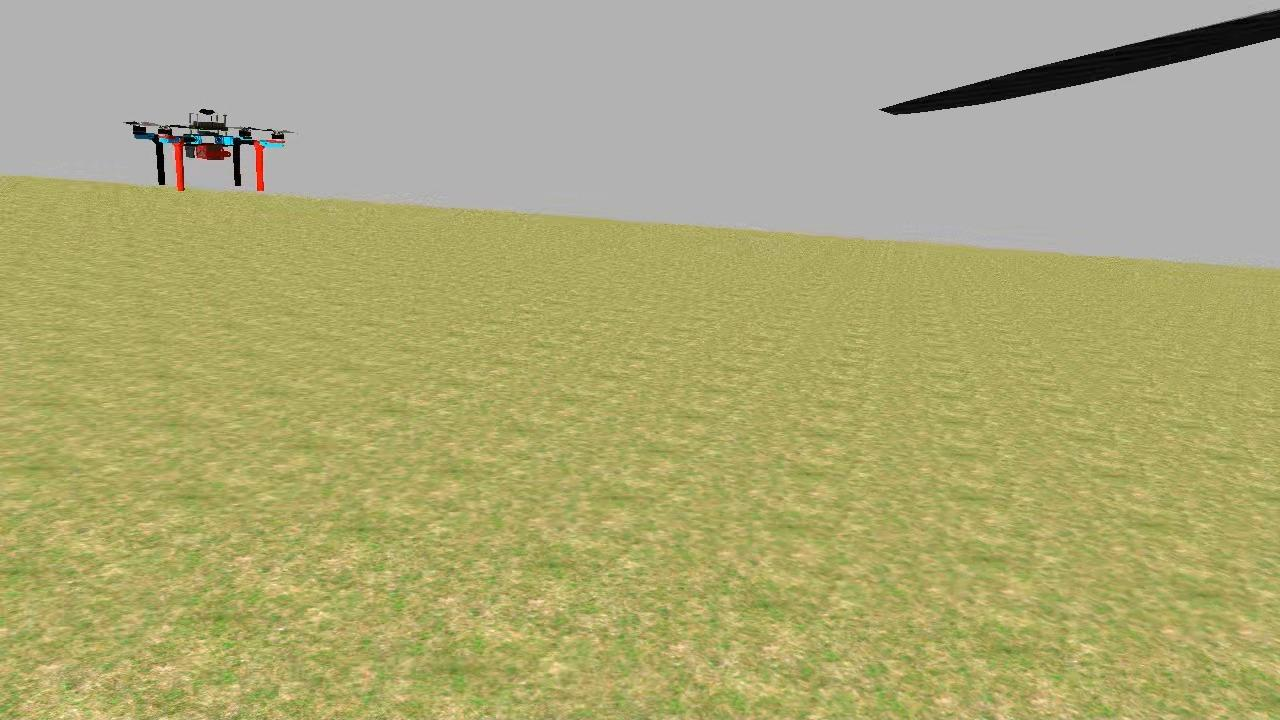UAV: (120, 102, 292, 198)
